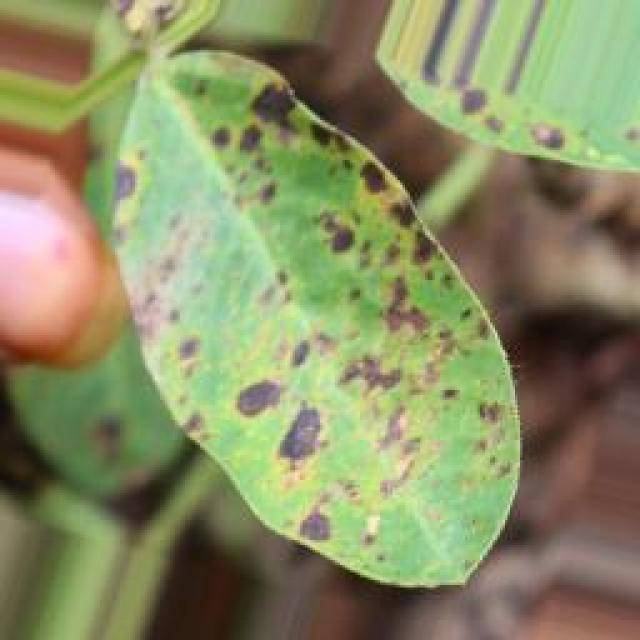Yellowish: (77, 30, 545, 572)
